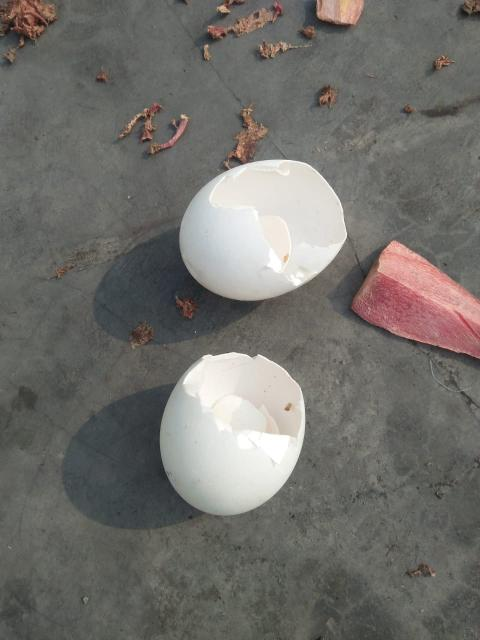Roto: (158, 351, 306, 516), (178, 158, 347, 302)
